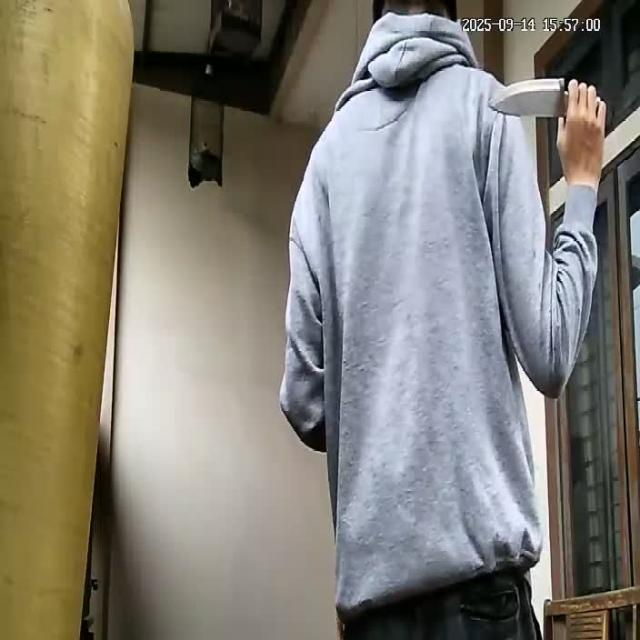senjata_tajam: (484, 76, 566, 122)
